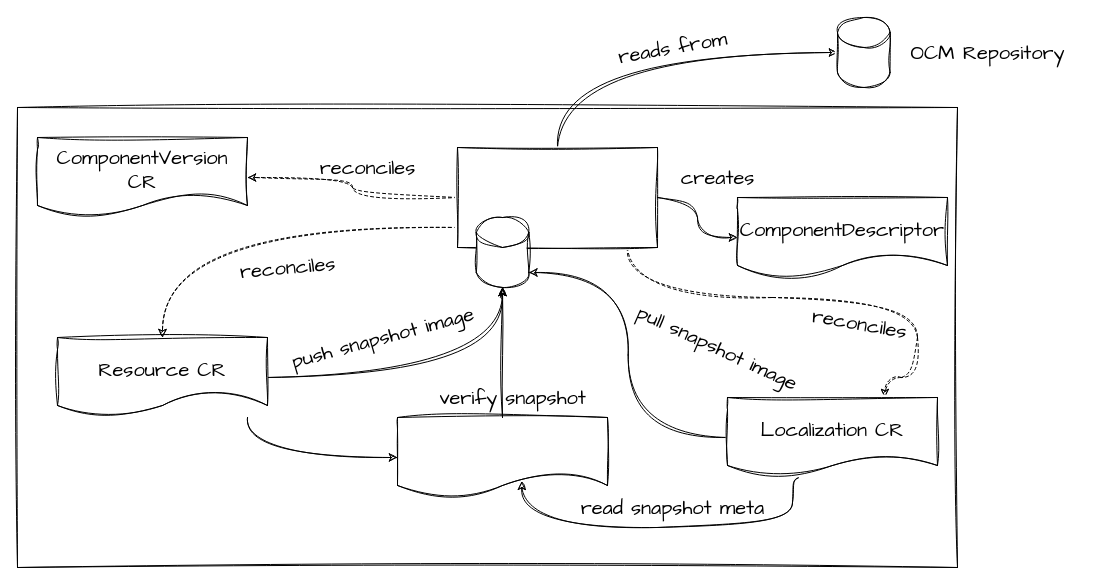
Image size: 1095x586. Some labels were removed from this diagram. Here are the shapes that lost their labels. From the top down, the centre of each, then its label:
At point (557, 197): "ocm-controller".
At point (502, 457): "Snapshot CR".
